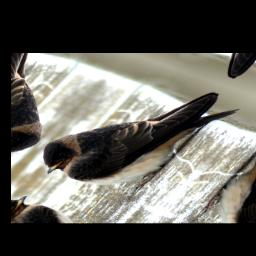Swallow: (24, 61, 248, 209)
